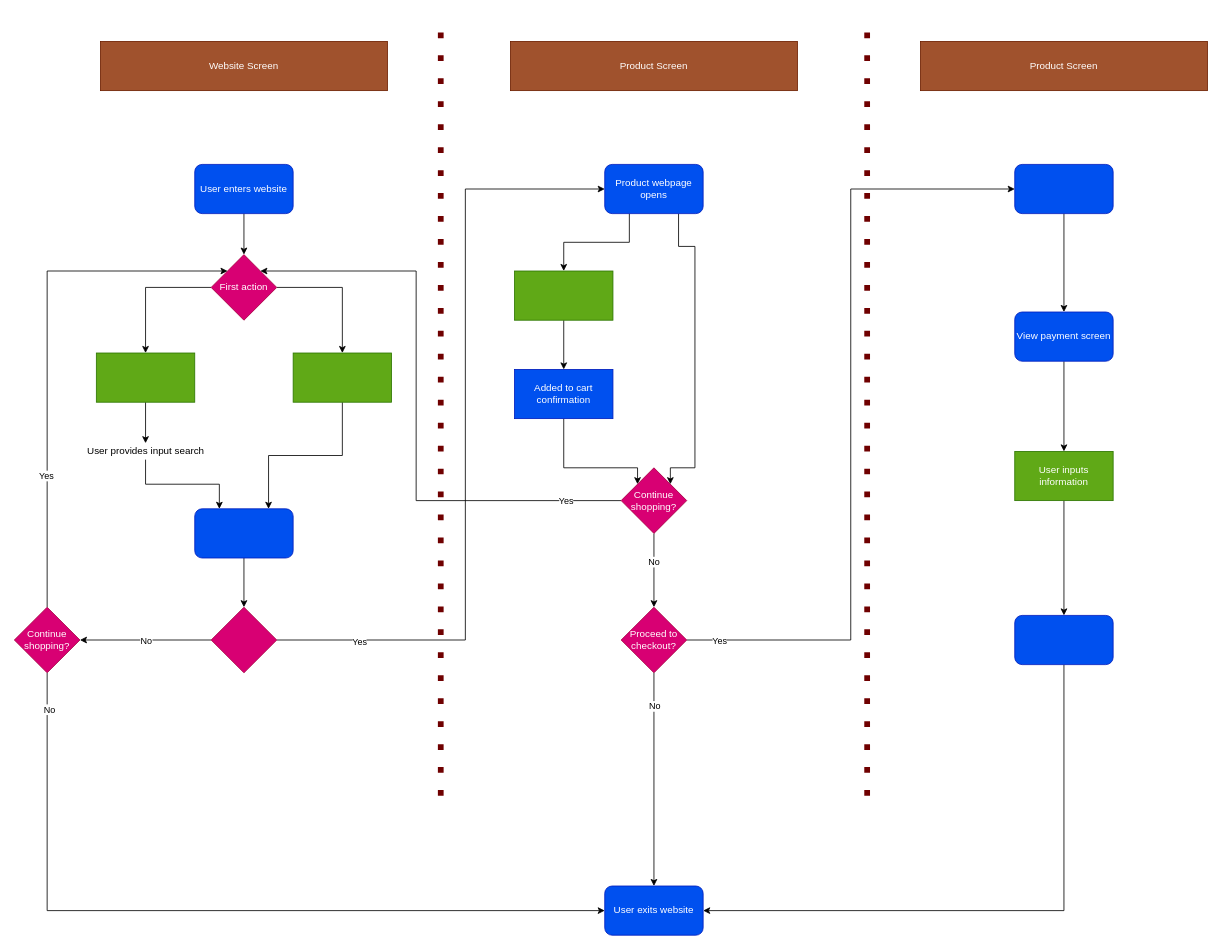
Image size: 1222x950. Some labels were removed from this diagram. The shapes that lost their labels are listed below. From the top down, each one's box as (x1, y1, x2, y2) in pixels, then its label:
(1014, 164, 1113, 214): User taken to cart screen
(514, 270, 613, 320): User adds item to cart
(96, 352, 195, 402): User searches for specific product
(292, 352, 392, 402): User explores home page
(194, 508, 293, 558): User looks over products
(210, 606, 277, 673): View specific product
(1014, 615, 1113, 665): Confirmation + email received
